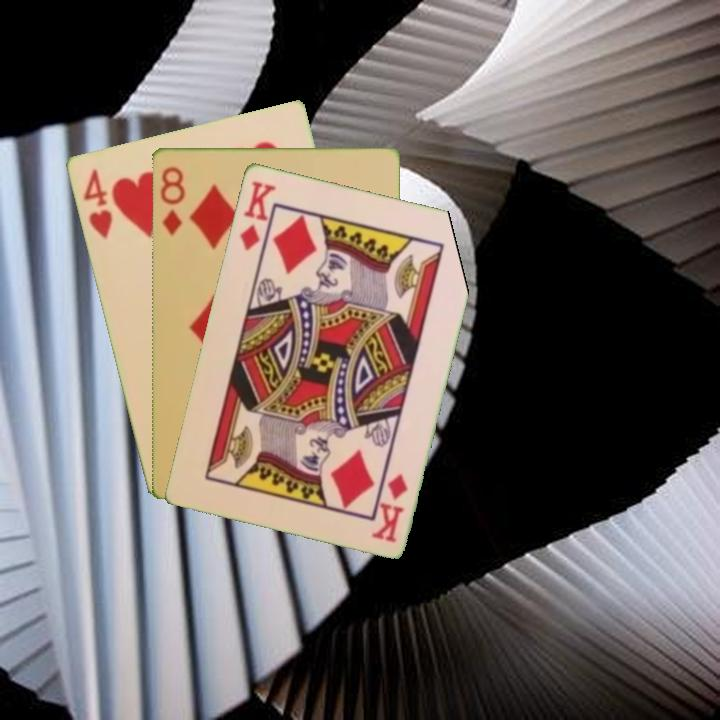4h: (79, 165, 115, 242)
8d: (156, 162, 187, 238)
Kd: (236, 177, 278, 260), (369, 469, 411, 545)
